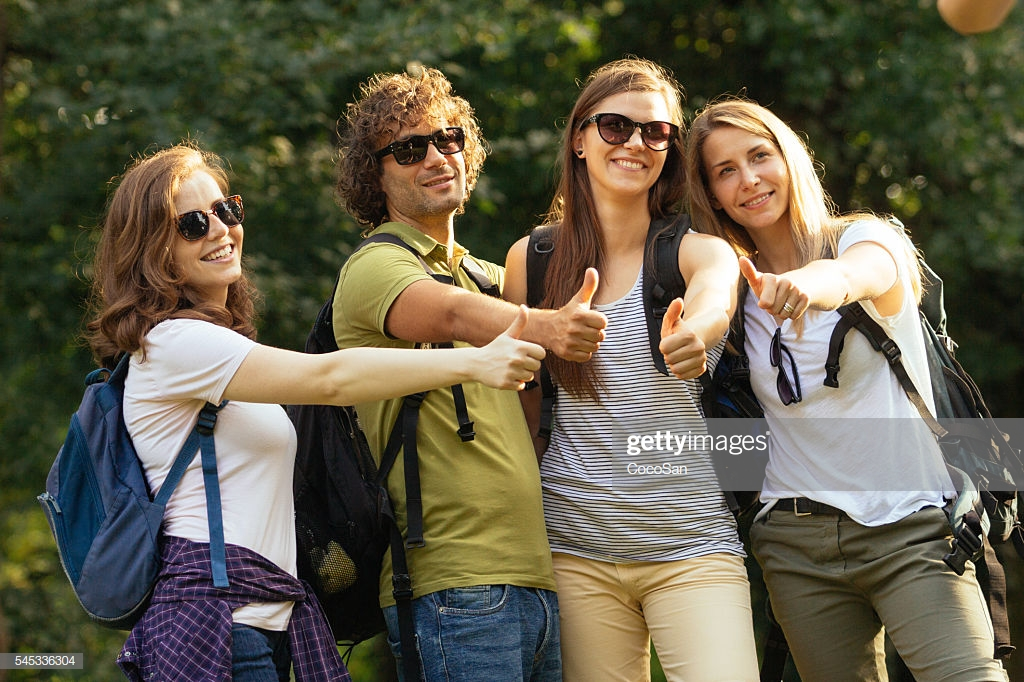thumbsup: (558, 266, 607, 363), (739, 256, 809, 321), (659, 297, 707, 381), (500, 304, 546, 391)
